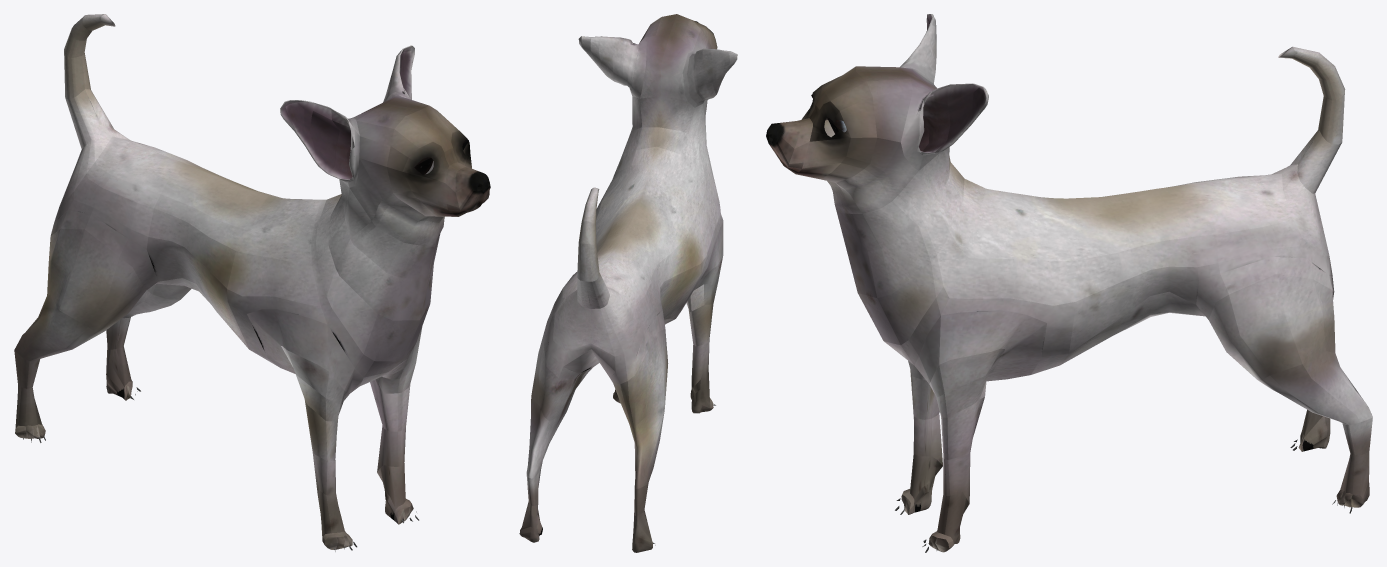
The model's file is dog.fbx.
The picture shows the model from 3 angles, left to right: view 1: azimuth 30°, elevation 25°; view 2: azimuth 150°, elevation 25°; view 3: azimuth 270°, elevation 25°; orthographic projection. The views are drawn at different scales.
Visible parts, largest first — view 1: dog; view 2: dog; view 3: dog.
Part boxes in pixels (<box>): dog: <box>14,14,490,551</box>; dog: <box>519,14,737,552</box>; dog: <box>766,14,1372,552</box>.
Bounding box in the file's own units: 44.9 × 78.89 × 91.72.
1 material, 1 textured.
